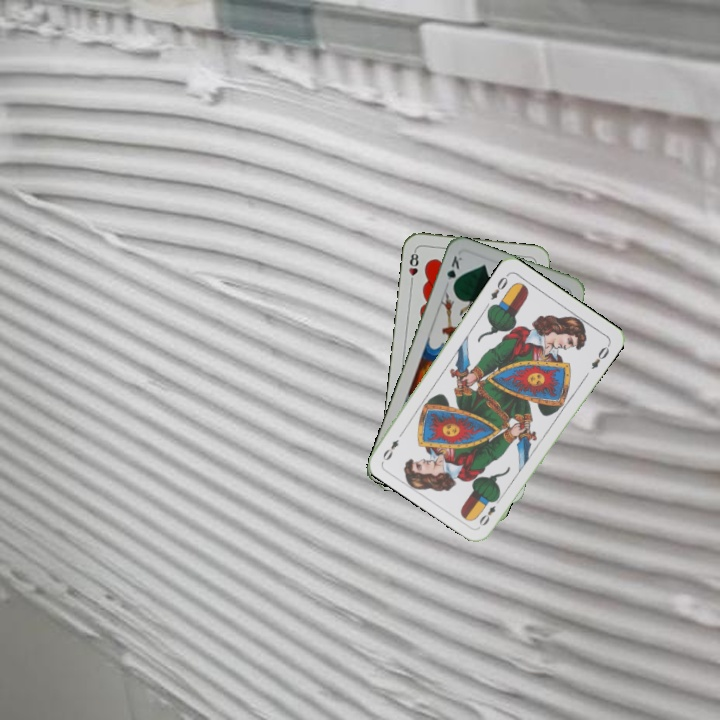EO: (475, 493, 503, 529), (486, 270, 511, 303)
GK: (441, 251, 466, 291)
H8: (405, 246, 421, 287)
